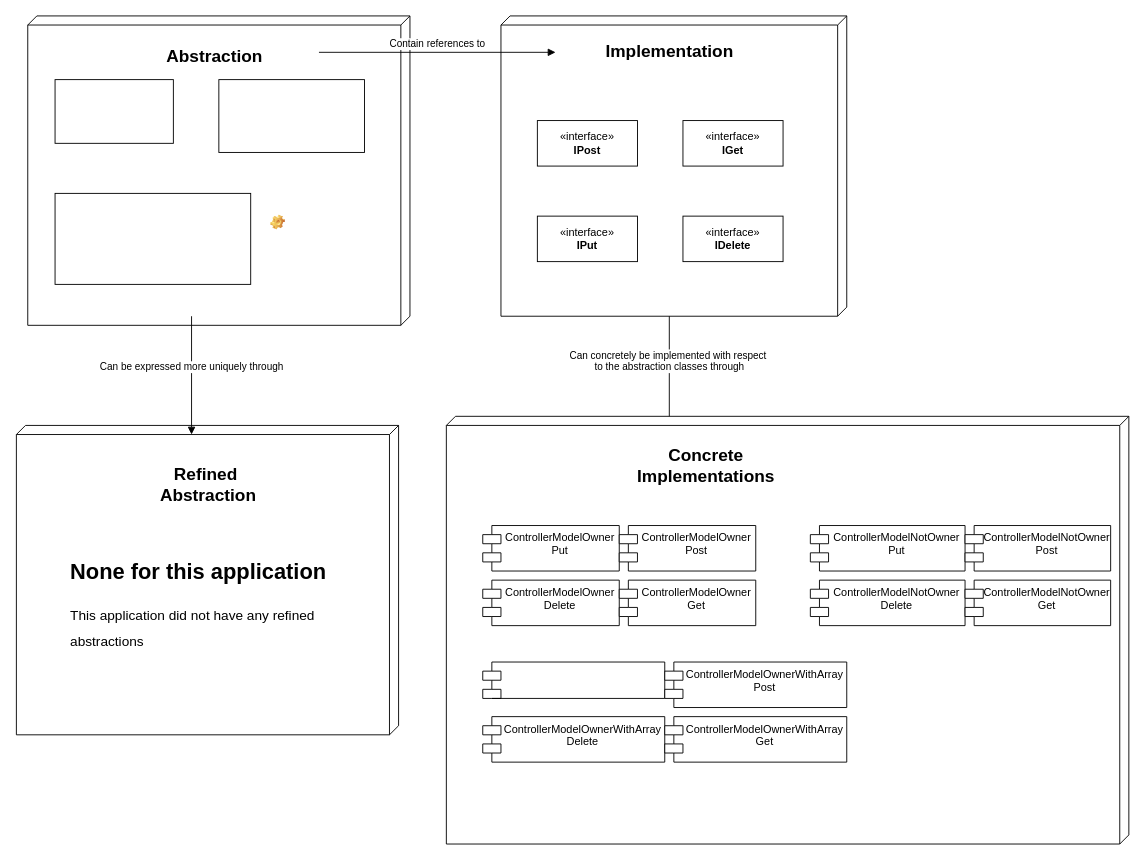
This 1145x860 diagram has some shape labels left out. Each missing label, with the box of its shape:
attribute : implementation interface reference: (264, 192, 391, 252)
ControllerModelNotOwner: (218, 79, 364, 152)
ControllerModelOwner: (54, 79, 173, 143)
ControllerModelOwnerWithArray: (54, 192, 251, 284)
ControllerModelOwnerWithArray Put: (482, 661, 665, 698)
